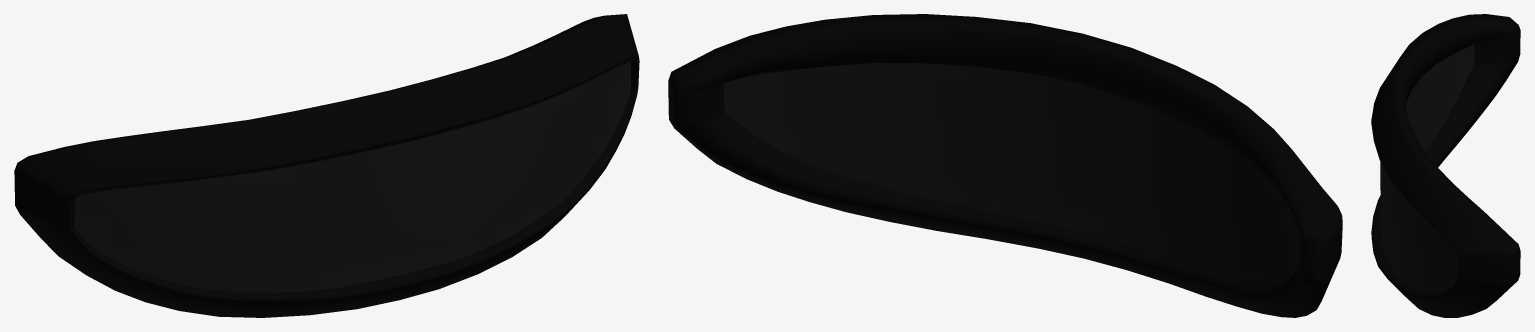
File: AccessoryGlassCyber1.glb
3 views of the same model, side by side, from view 1: azimuth 30°, elevation 25°; view 2: azimuth 150°, elevation 25°; view 3: azimuth 270°, elevation 25° (orthographic). The views are drawn at different scales.
Parts seen in each view (by area): view 1: Accessory__mAccessory; view 2: Accessory__mAccessory; view 3: Accessory__mAccessory.
Boxes of the visible parts, bbox=[...] form: Accessory__mAccessory: bbox=[14, 14, 639, 317]; Accessory__mAccessory: bbox=[668, 14, 1342, 317]; Accessory__mAccessory: bbox=[1371, 14, 1520, 317].
Size of the model in its own units: 6.63 by 2.16 by 1.79.
1 material, 1 textured.
